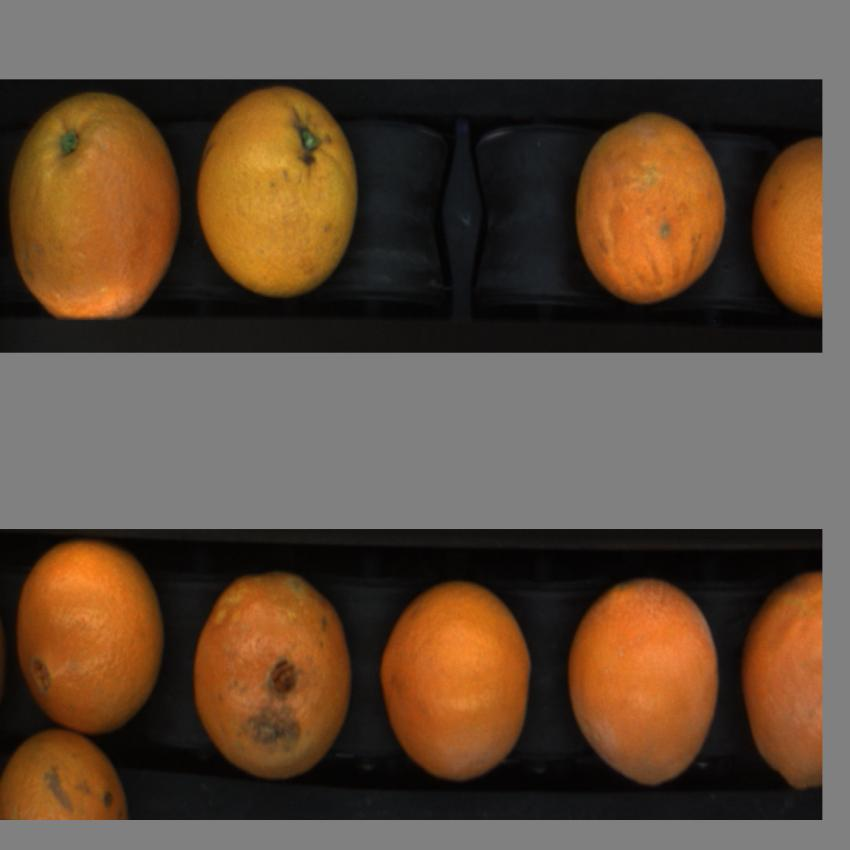Buen estado: (5, 87, 183, 322), (195, 84, 360, 298), (376, 580, 533, 780), (17, 543, 165, 738), (750, 126, 821, 316), (2, 724, 130, 818)
Mal estado: (189, 569, 354, 776), (564, 577, 719, 785), (570, 113, 731, 300), (741, 571, 825, 791)
